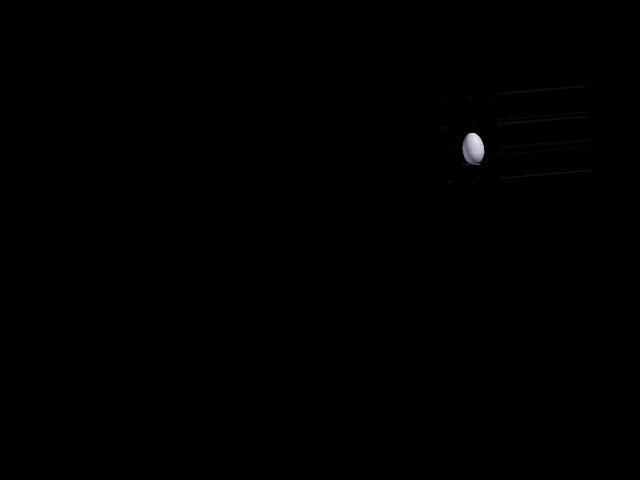egg: (461, 131, 486, 165)
